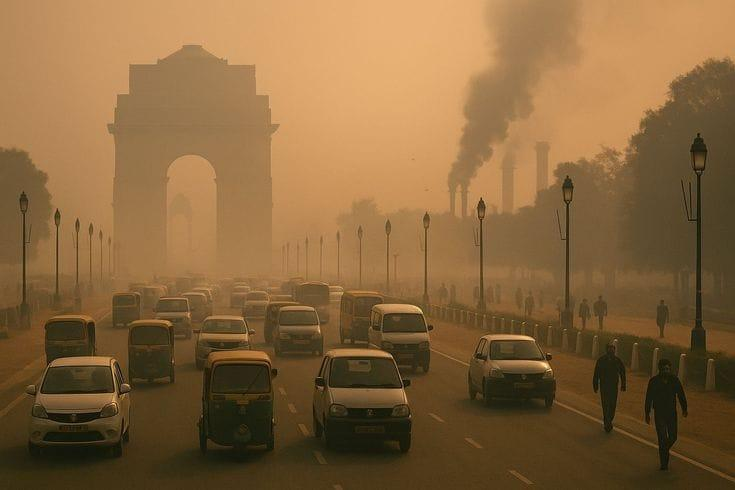Gedung: (56, 36, 304, 282)
Kendaraan: (14, 352, 143, 459), (311, 344, 414, 460), (462, 319, 562, 435), (188, 349, 283, 465), (365, 298, 441, 381), (33, 310, 103, 381), (116, 325, 180, 392), (260, 305, 335, 362), (279, 269, 338, 327), (194, 309, 245, 367), (146, 290, 195, 342), (108, 291, 151, 333)
Manusia: (642, 356, 690, 479), (588, 346, 630, 442), (589, 279, 613, 336), (500, 270, 529, 317), (573, 283, 593, 336), (649, 299, 673, 343), (523, 283, 546, 321)
Vegetasi: (559, 30, 735, 290), (0, 122, 59, 285)
